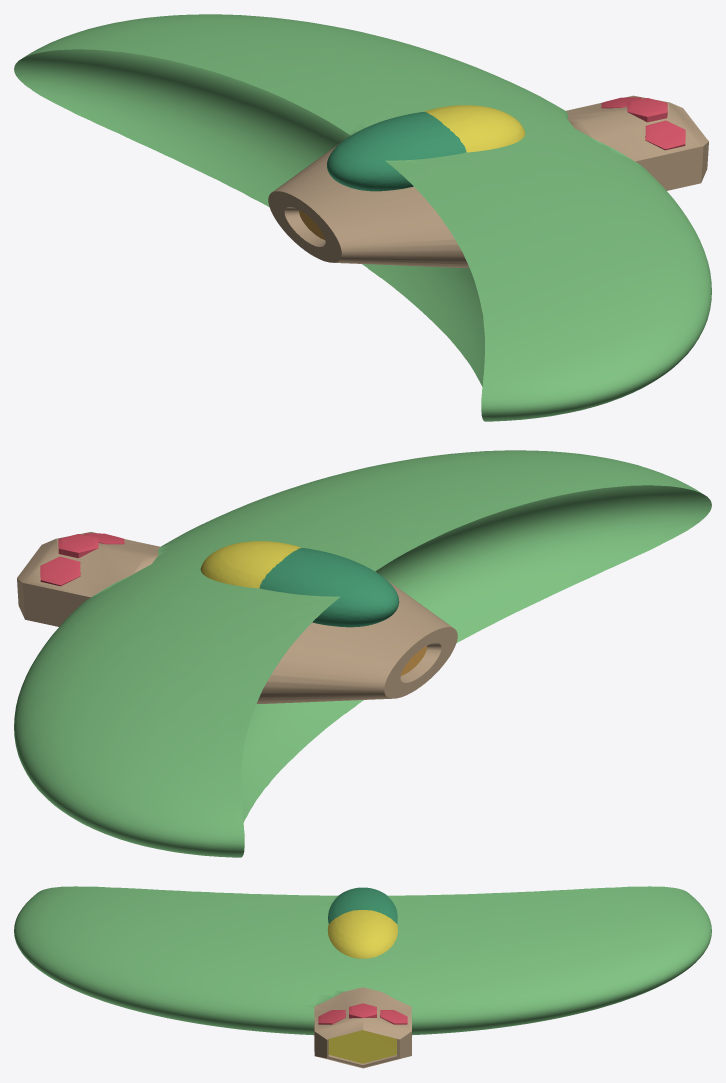
Rendered from kre-bomber.glb.
3 renders of one model, top to bottom at view 1: azimuth 30°, elevation 25°; view 2: azimuth 150°, elevation 25°; view 3: azimuth 270°, elevation 25°, orthographic. The views are drawn at different scales.
Visible parts, largest first — view 1: Fighter — Bomber current hull - authored COLOR_0 regions; view 2: Fighter — Bomber current hull - authored COLOR_0 regions; view 3: Fighter — Bomber current hull - authored COLOR_0 regions.
Part boxes in pixels (x1,y1,x2,y2): Fighter — Bomber current hull - authored COLOR_0 regions: (14, 14, 711, 421); Fighter — Bomber current hull - authored COLOR_0 regions: (14, 450, 711, 857); Fighter — Bomber current hull - authored COLOR_0 regions: (14, 886, 711, 1068).
Bounding box in the file's own units: 0.9447 × 0.2911 × 1.86.
